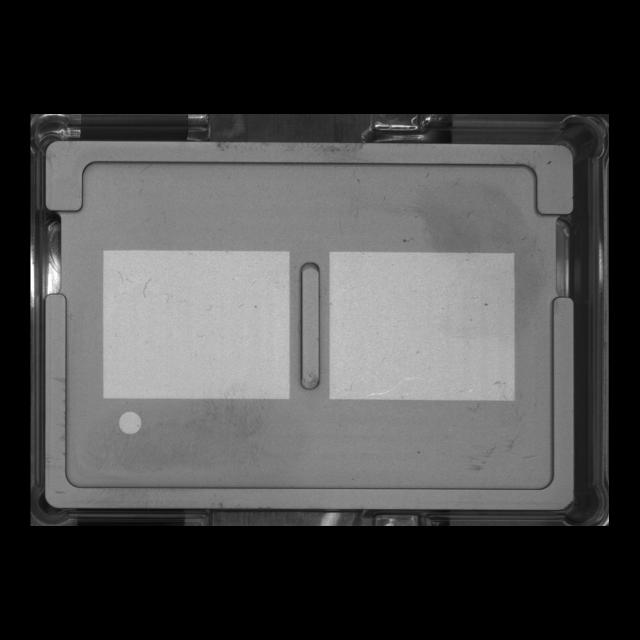door: (37, 130, 586, 230)
point: (110, 402, 150, 443)
